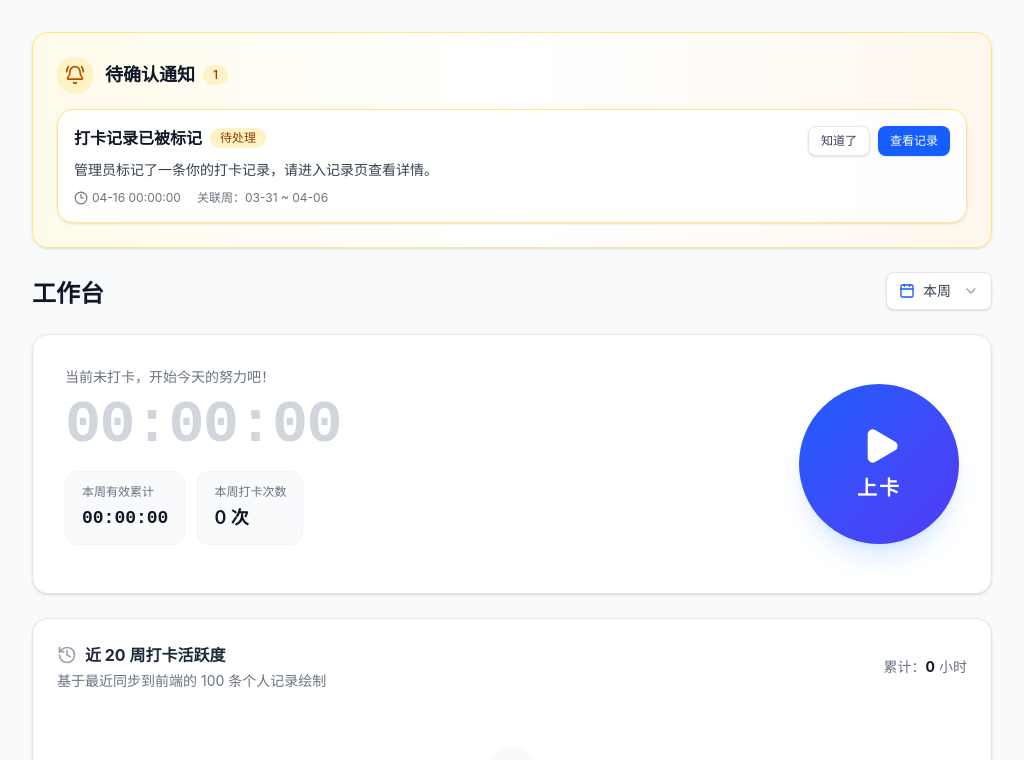
DashboardPage › acknowledges a notification and removes it from the dashboard queue
Click the button "知道了".
click(839, 141)  # box [808,126,870,156]
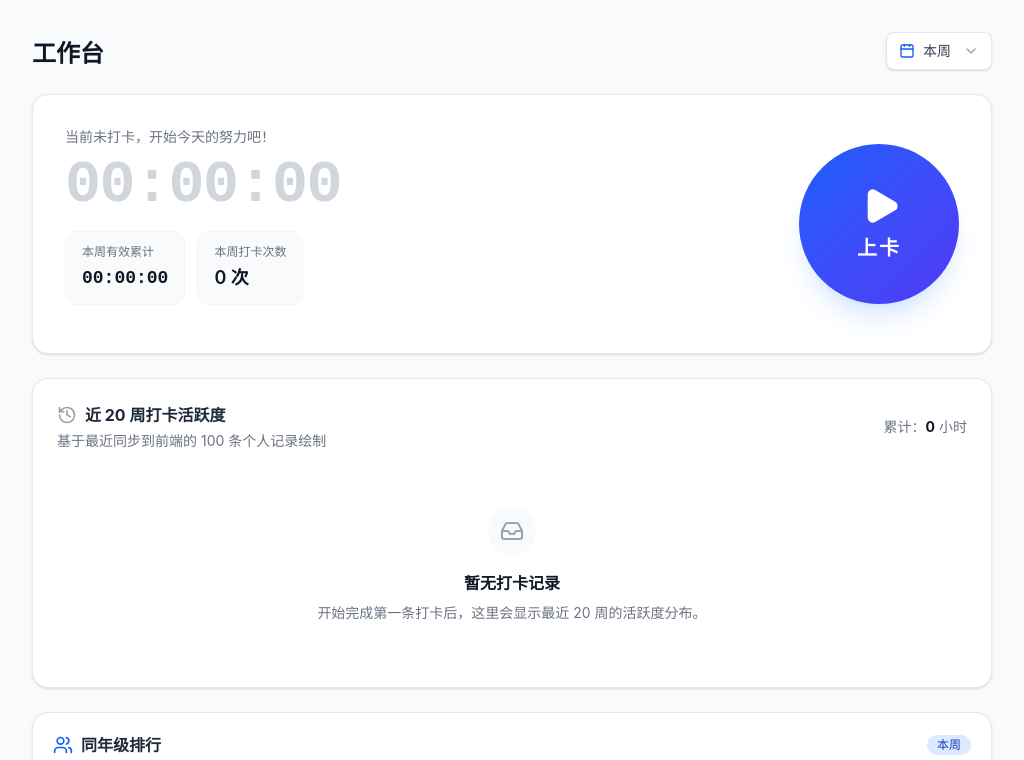
Now the text "打卡记录已被标记" is gone
